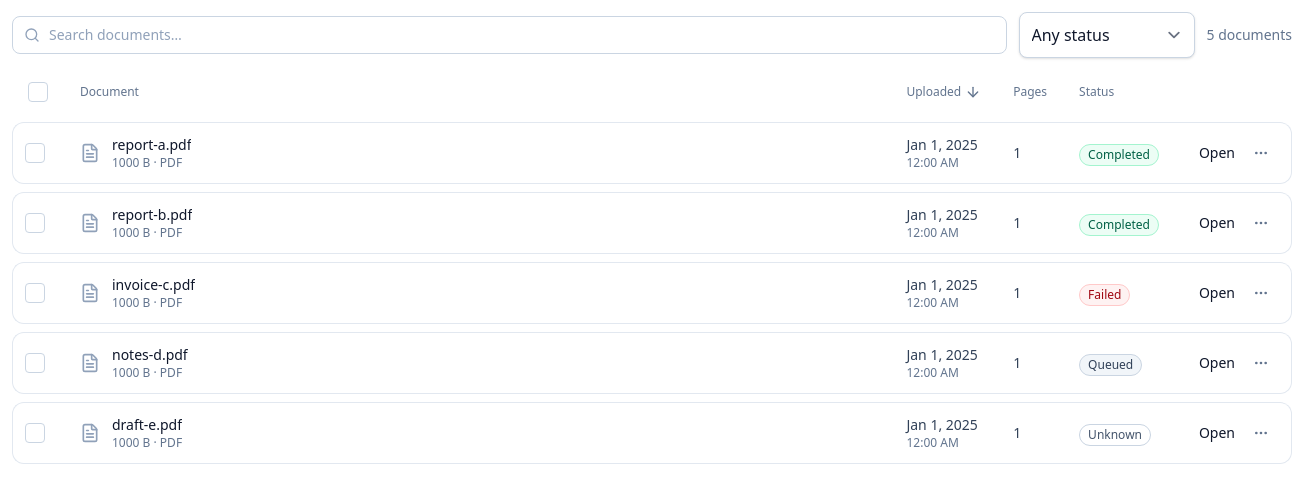
Scenario: filters to completed documents only
Select "Completed" in the dropdown named "Status" at (1106, 35), box [1018, 12, 1194, 58]
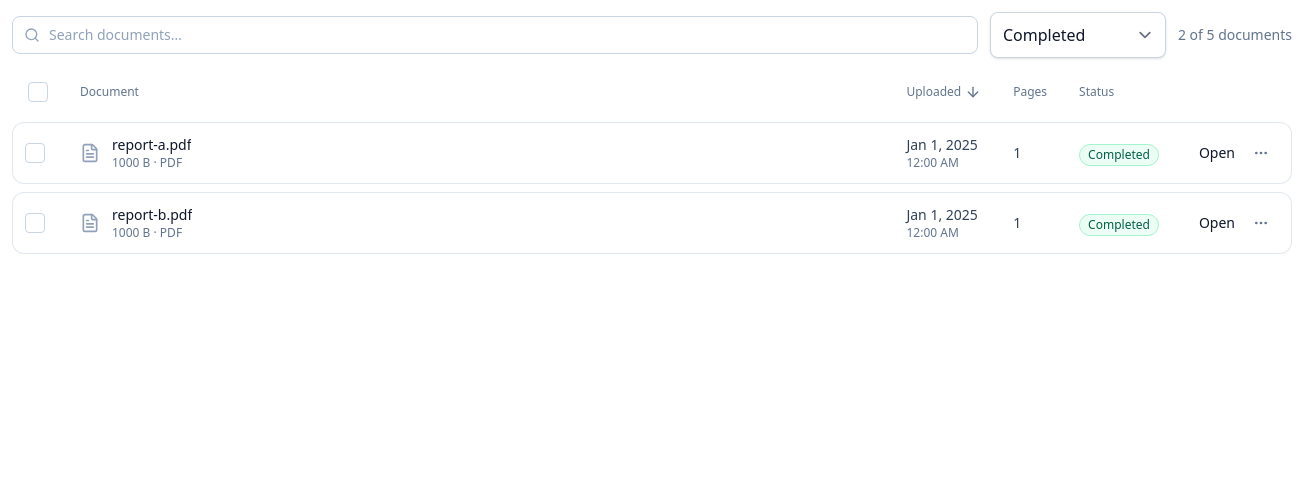
Expected: the text "2 of 5 documents" is shown, [1178, 25, 1292, 45]
Expected: the link "invoice-c.pdf" is gone
Expected: the link "notes-d.pdf" is gone
